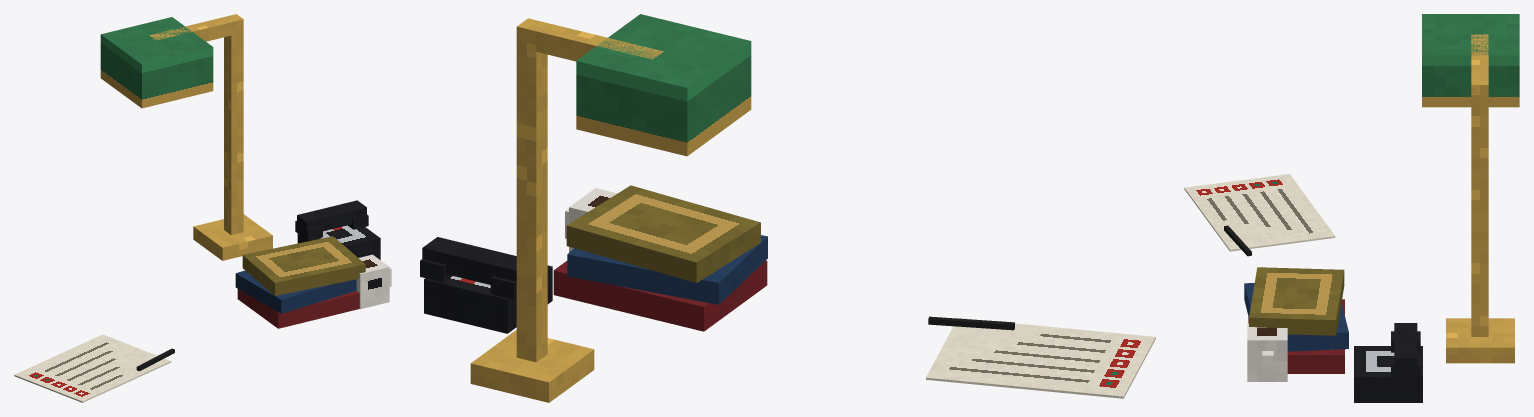
File: desk_set.glb
The picture shows the model from 3 angles, left to right: view 1: azimuth 30°, elevation 25°; view 2: azimuth 150°, elevation 25°; view 3: azimuth 270°, elevation 25°; orthographic projection. The views are drawn at different scales.
Visible parts, largest first — view 1: desk_set; view 2: desk_set; view 3: desk_set.
Boxes of the visible parts, x1,y1,x2,y2 form: desk_set: (14, 14, 391, 402); desk_set: (420, 14, 1155, 402); desk_set: (1184, 14, 1519, 402).
Bounding box in the file's own units: 1.48 × 0.8031 × 0.9116.
2 materials, 2 textured.
